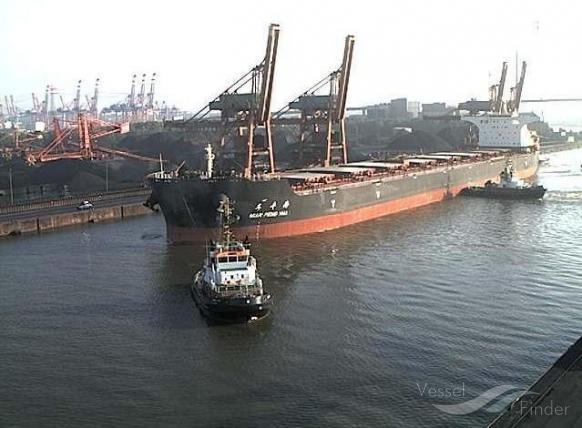OCR: (248, 197, 296, 222)
